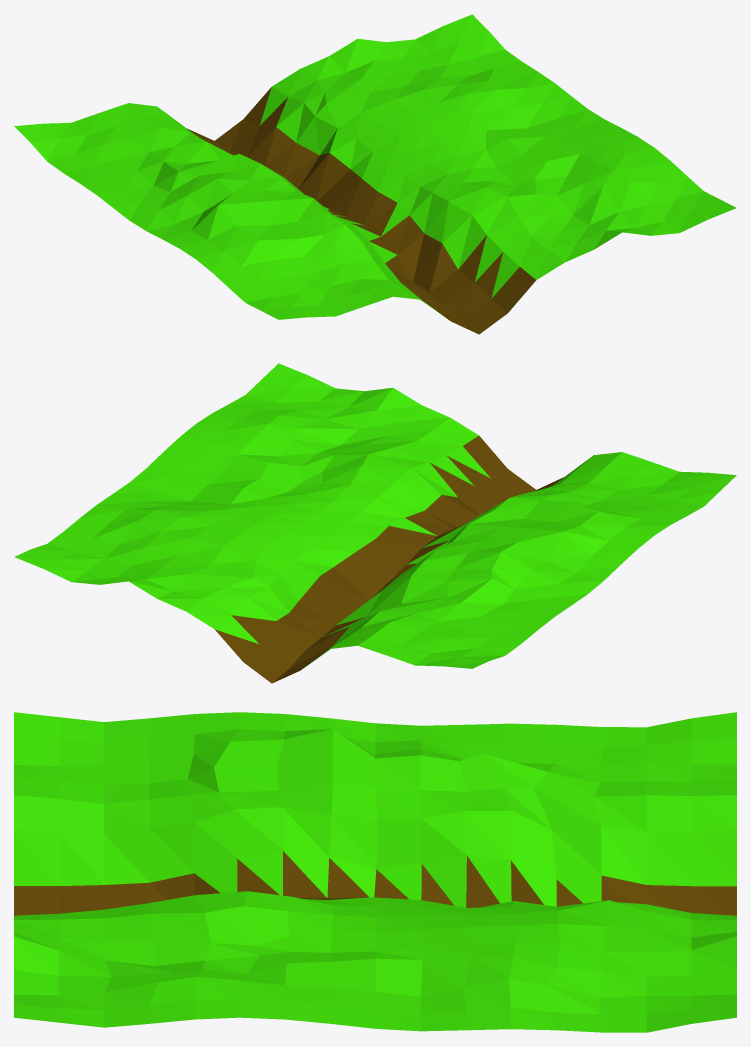
The model's file is oja_left_2.fbx.
3 views of the same model, one above another, from view 1: azimuth 30°, elevation 25°; view 2: azimuth 150°, elevation 25°; view 3: azimuth 270°, elevation 25° (orthographic). The views are drawn at different scales.
Parts seen in each view (by area): view 1: oja_L_2; view 2: oja_L_2; view 3: oja_L_2.
Boxes of the visible parts, x1,y1,x2,y2 form: oja_L_2: (14,14,736,334); oja_L_2: (14,363,736,683); oja_L_2: (14,712,736,1032).
Size of the model in its own units: 2000 by 329 by 2000.
